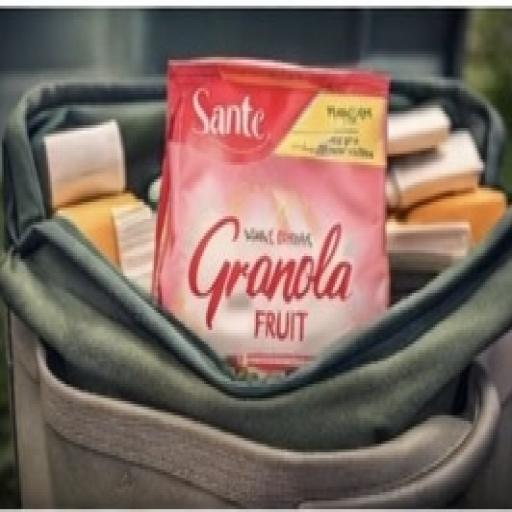granola: (127, 33, 447, 431)
